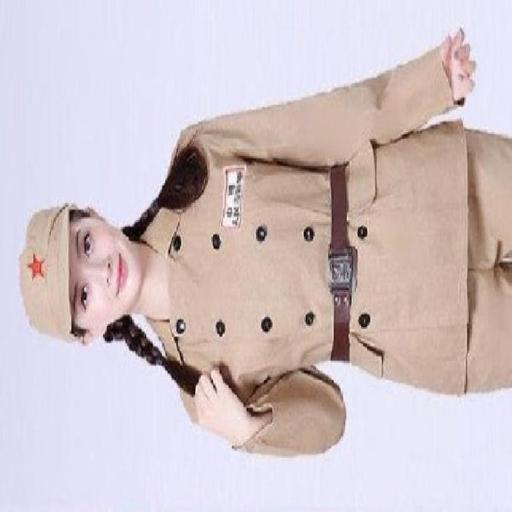north army: (15, 72, 512, 506)
